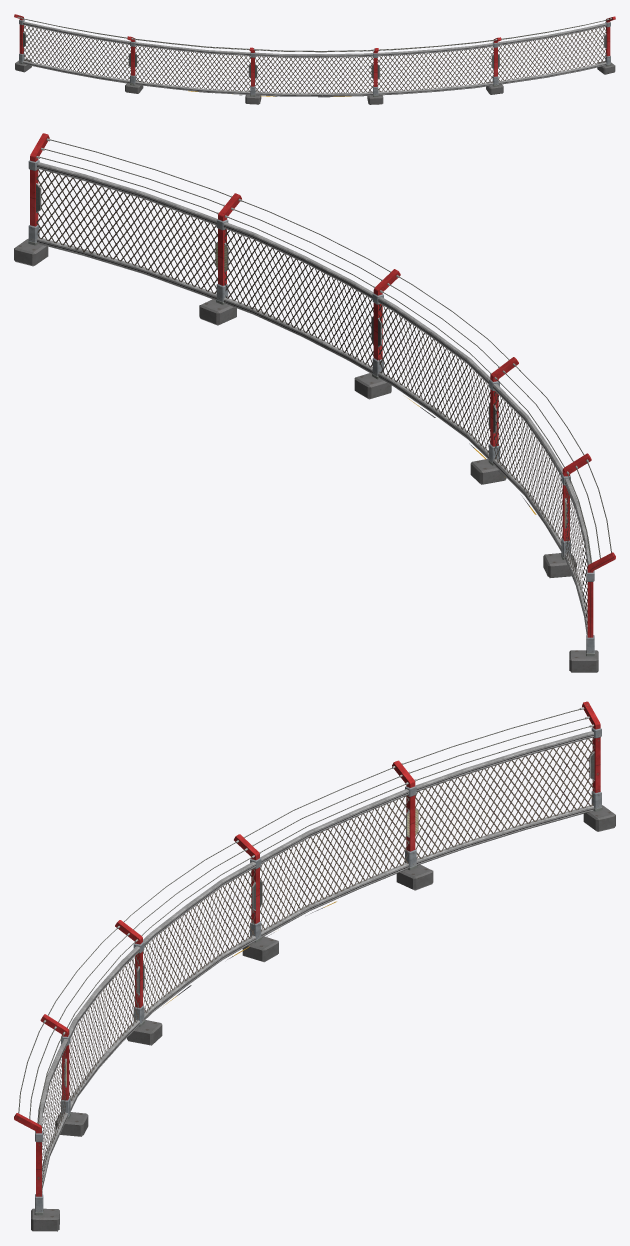
File: Ob_FenceCurve_RC.fbx
3 renders of one model, top to bottom at view 1: azimuth 30°, elevation 25°; view 2: azimuth 150°, elevation 25°; view 3: azimuth 270°, elevation 25°, orthographic. The views are drawn at different scales.
Visible parts, largest first — view 1: Ob_FenceCurve_RC; view 2: Ob_FenceCurve_RC; view 3: Ob_FenceCurve_RC.
Boxes of the visible parts, left/top/right/bottom form: Ob_FenceCurve_RC: left=14, top=14, right=615, bottom=104; Ob_FenceCurve_RC: left=14, top=133, right=615, bottom=672; Ob_FenceCurve_RC: left=14, top=701, right=615, bottom=1231.
Bounding box in the file's own units: 5108 × 652 × 3112.
